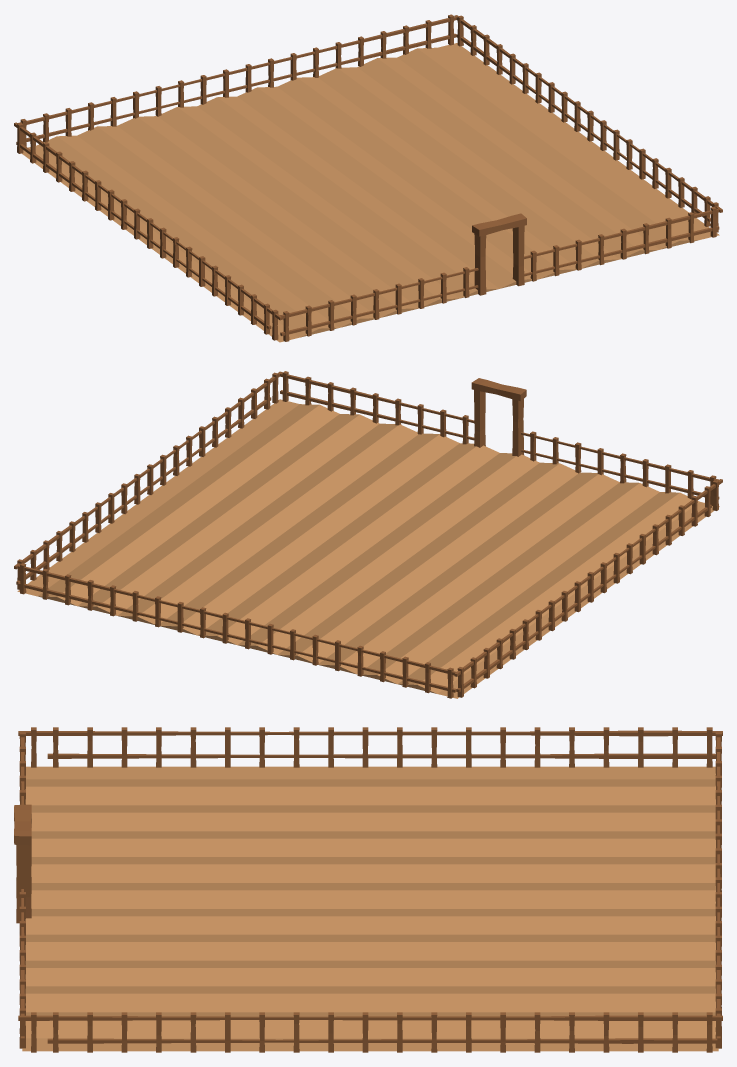
The model's file is Empty_Field.fbx.
The picture shows the model from 3 angles, top to bottom: view 1: azimuth 30°, elevation 25°; view 2: azimuth 150°, elevation 25°; view 3: azimuth 270°, elevation 25°; orthographic projection. The views are drawn at different scales.
Visible parts, largest first — view 1: Empty_Field; view 2: Empty_Field; view 3: Empty_Field.
Boxes of the visible parts, bbox=[...] form: Empty_Field: bbox=[14, 14, 722, 342]; Empty_Field: bbox=[14, 371, 722, 698]; Empty_Field: bbox=[14, 727, 722, 1052].
Bounding box in the file's own units: 1611 × 231 × 1679.
